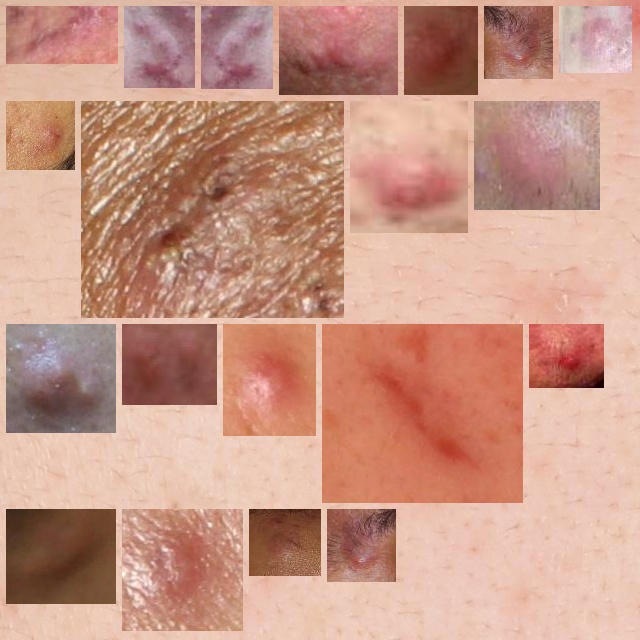nodule: (89, 109, 336, 310), (330, 332, 515, 495), (358, 109, 460, 225), (130, 517, 235, 623), (482, 109, 592, 202), (14, 332, 108, 425), (287, 14, 390, 87), (14, 517, 108, 596), (231, 332, 308, 428), (130, 324, 209, 397), (14, 14, 110, 63), (412, 14, 470, 87), (209, 14, 265, 81), (132, 14, 187, 80), (492, 14, 545, 71), (335, 517, 388, 574), (567, 14, 624, 65), (257, 517, 313, 568), (537, 332, 596, 380), (14, 109, 67, 162)
